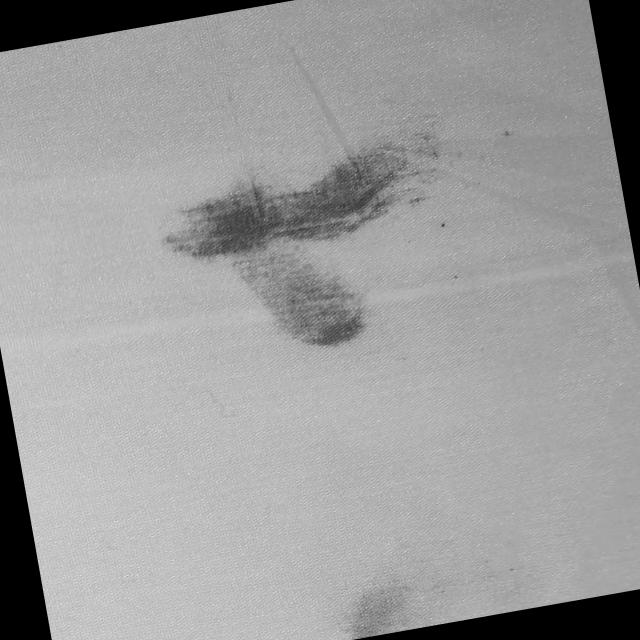Stain: (149, 108, 477, 376), (329, 568, 420, 640)
